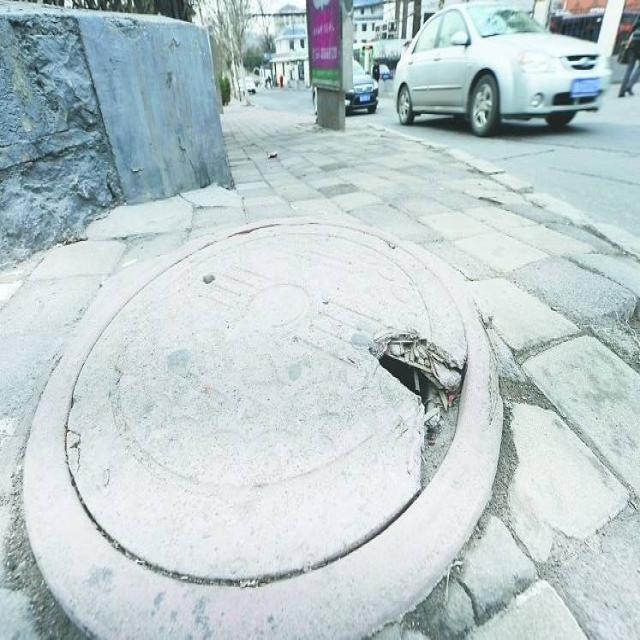Faulty: (62, 220, 466, 586)
